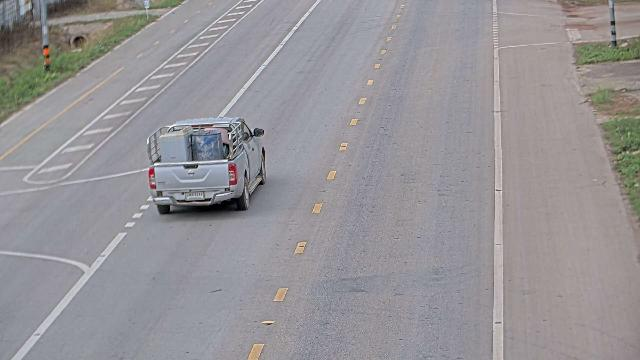pickup-truck: (145, 116, 267, 214)
